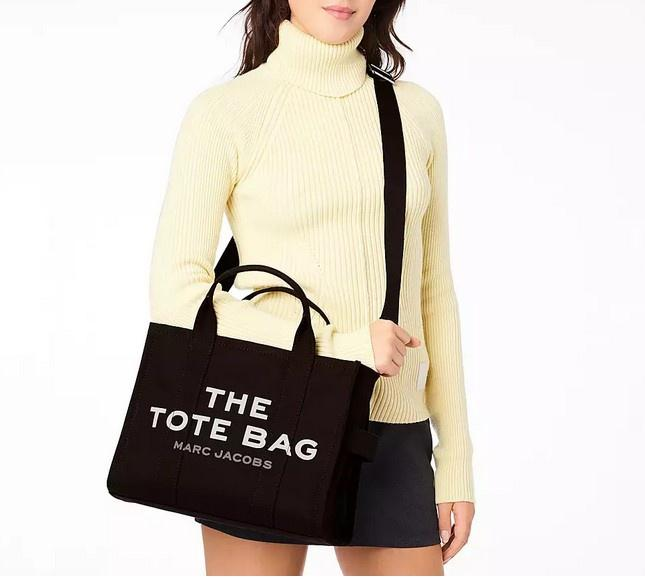MARC-JACOBS: (173, 441, 272, 470)
